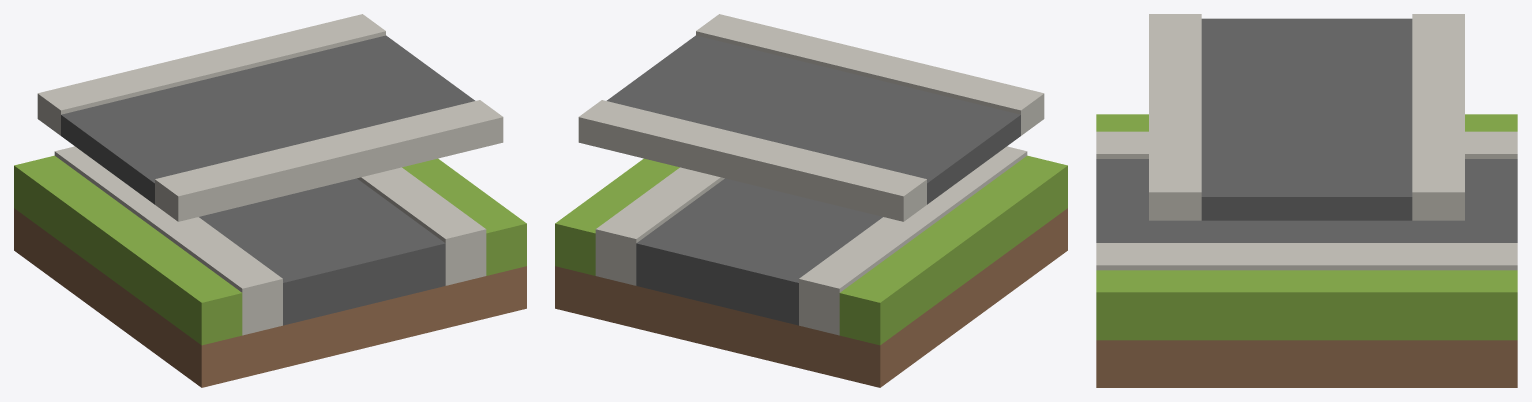
The model's file is road-bridge-crossroad.obj.
3 views of the same model, side by side, from view 1: azimuth 30°, elevation 25°; view 2: azimuth 150°, elevation 25°; view 3: azimuth 270°, elevation 25° (orthographic). The views are drawn at different scales.
Visible parts, largest first — view 1: road-bridge-crossroad_Cube.171; view 2: road-bridge-crossroad_Cube.171; view 3: road-bridge-crossroad_Cube.171.
Part boxes in pixels (box(x1,y1,x2,y2)): road-bridge-crossroad_Cube.171: box(14, 14, 526, 387); road-bridge-crossroad_Cube.171: box(555, 14, 1067, 387); road-bridge-crossroad_Cube.171: box(1096, 14, 1517, 387).
Bounding box in the file's own units: 8 × 4.1 × 8.
1 material, 1 textured.
